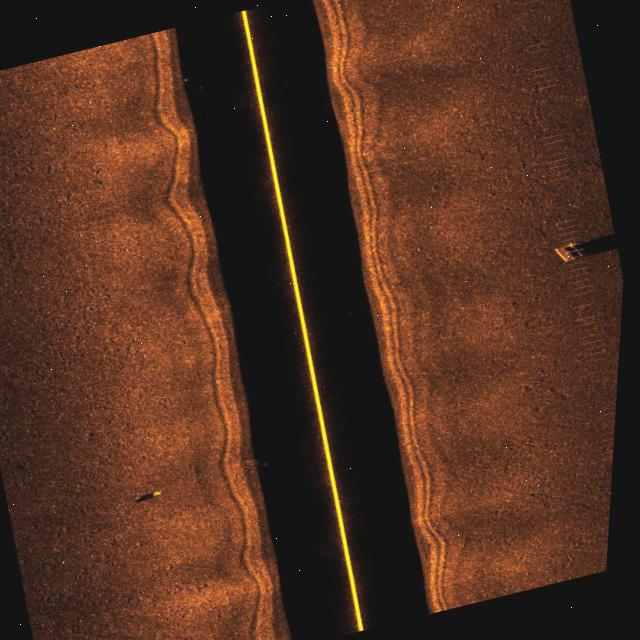mine: (133, 482, 173, 508)
other: (551, 228, 621, 267)
